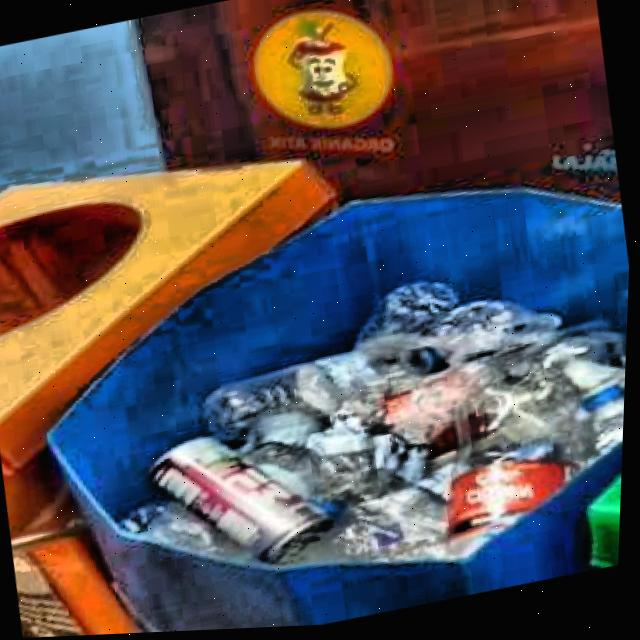metal: (154, 444, 336, 566)
